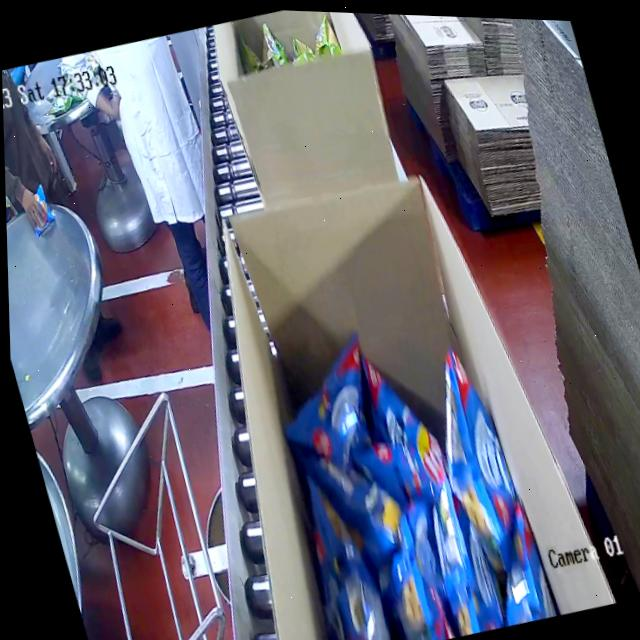PAPRIKA: (256, 319, 555, 640)
